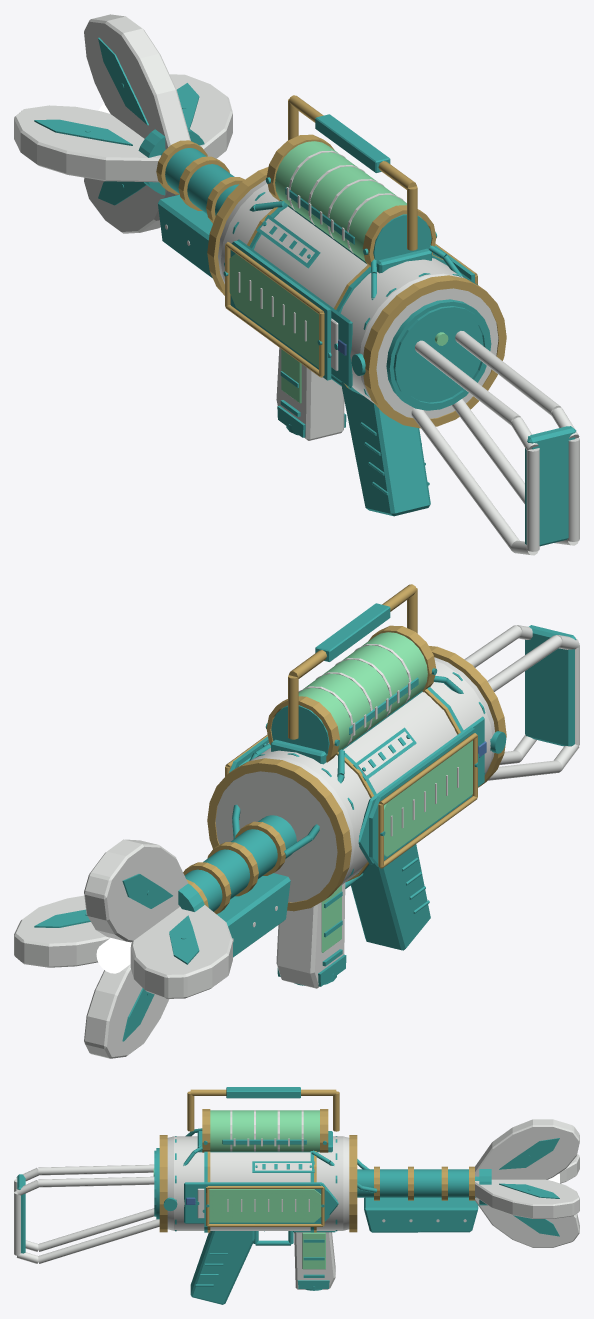
Rendered from medic_2.glb.
The picture shows the model from 3 angles, top to bottom: view 1: azimuth 30°, elevation 25°; view 2: azimuth 150°, elevation 25°; view 3: azimuth 270°, elevation 25°; orthographic projection. The views are drawn at different scales.
Visible parts, largest first — view 1: Weapon_medic_v1; view 2: Weapon_medic_v1; view 3: Weapon_medic_v1.
Boxes of the visible parts, <box> form: Weapon_medic_v1: <box>14,14,579,555</box>; Weapon_medic_v1: <box>14,584,579,1058</box>; Weapon_medic_v1: <box>14,1087,579,1304</box>.
Bounding box in the file's own units: 0.2 × 0.3432 × 0.8356.
